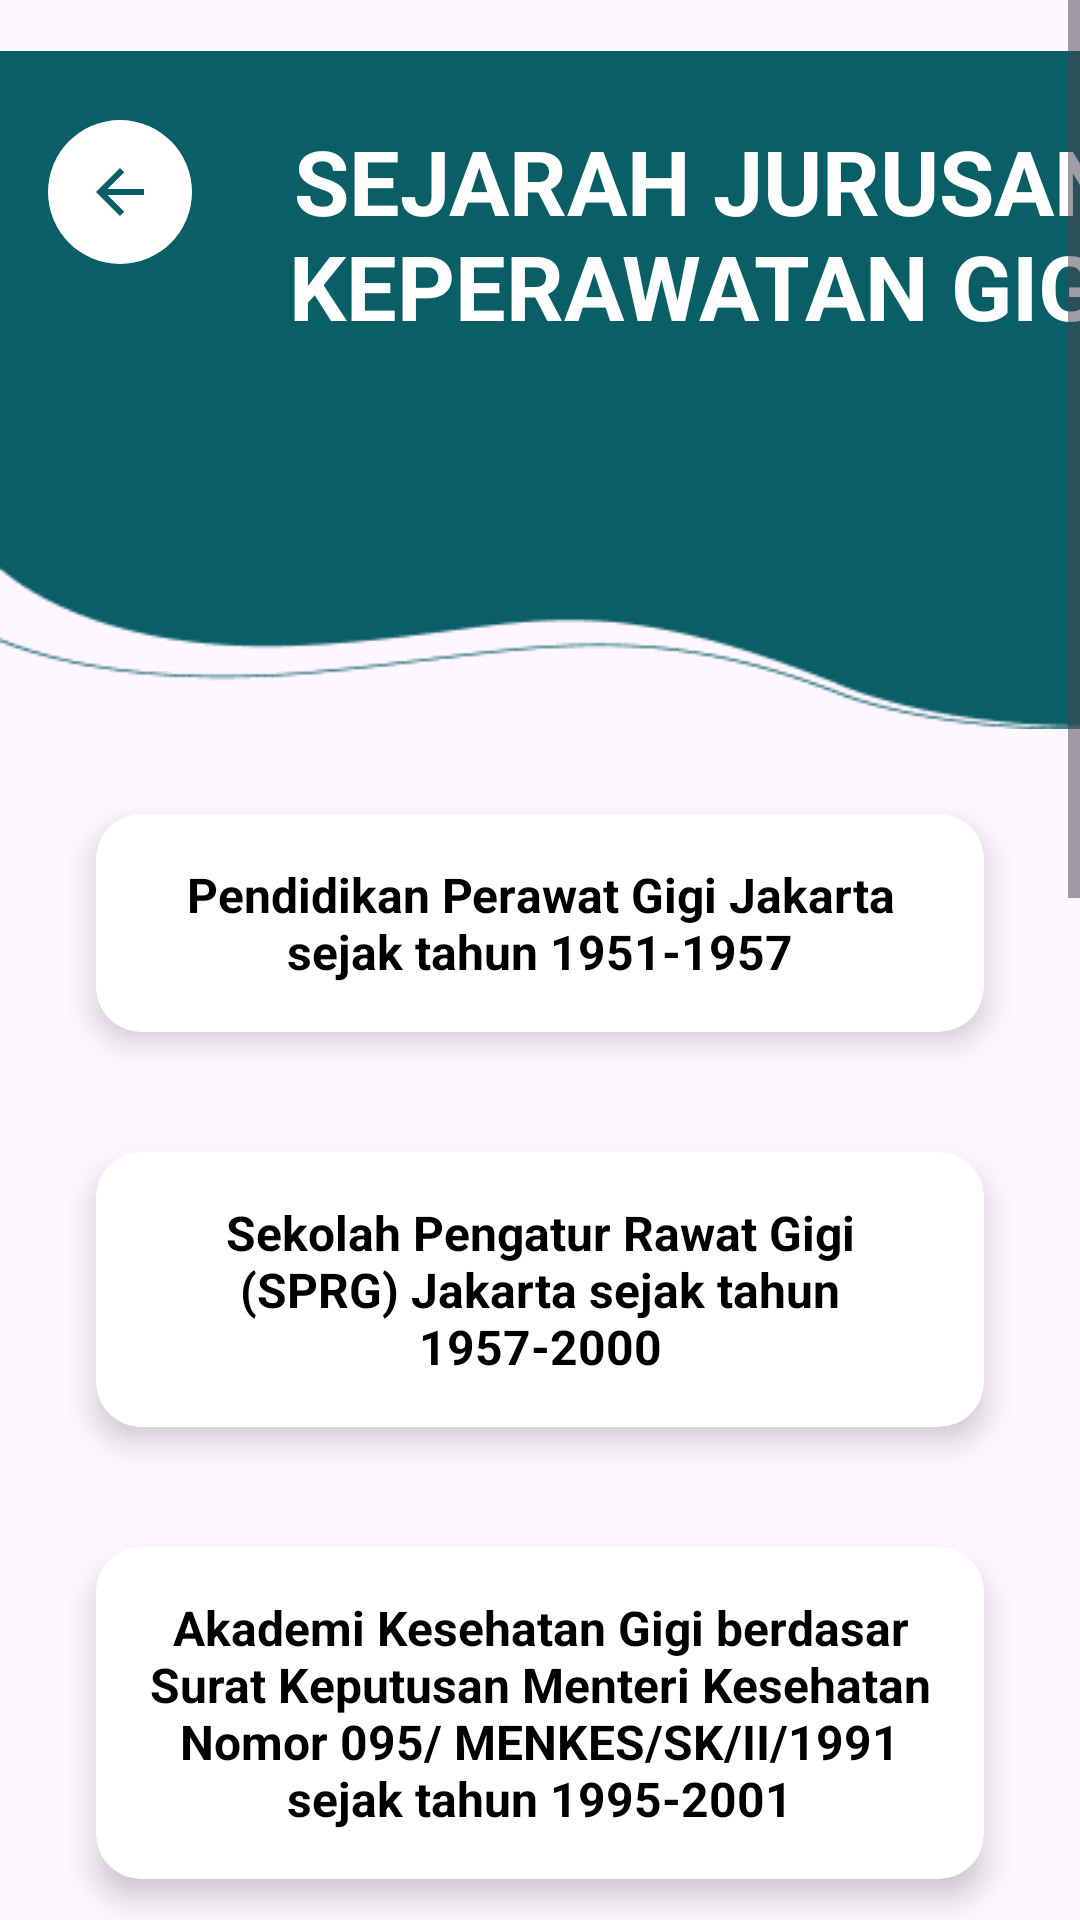

Where to tap for icons on this 1080×1920 app screen, as point (x, y):
back: point (120, 192)
